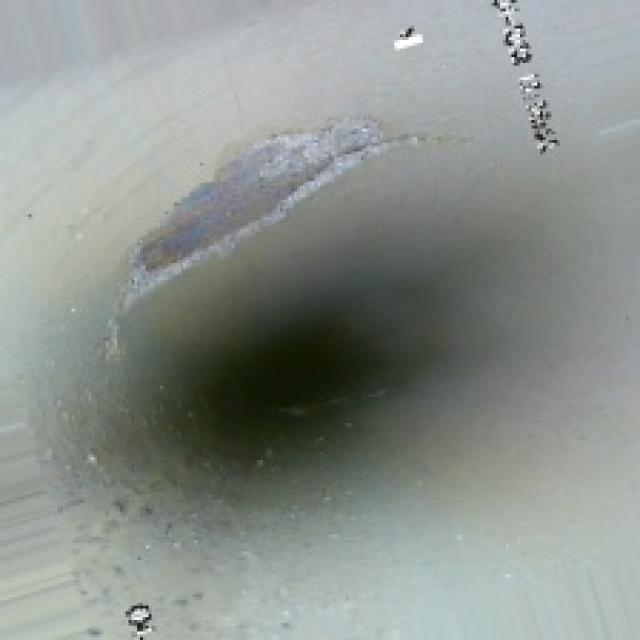pipe_surface_damage: (114, 109, 380, 277)
